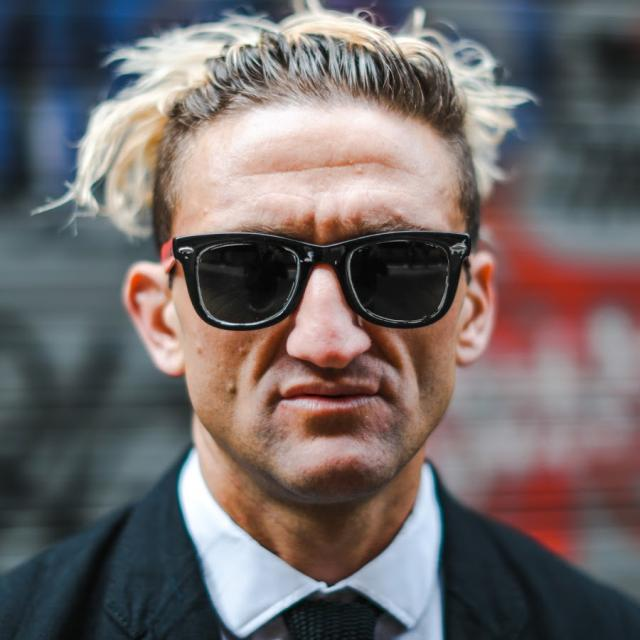mobile_phonerotation: (168, 228, 472, 332)
